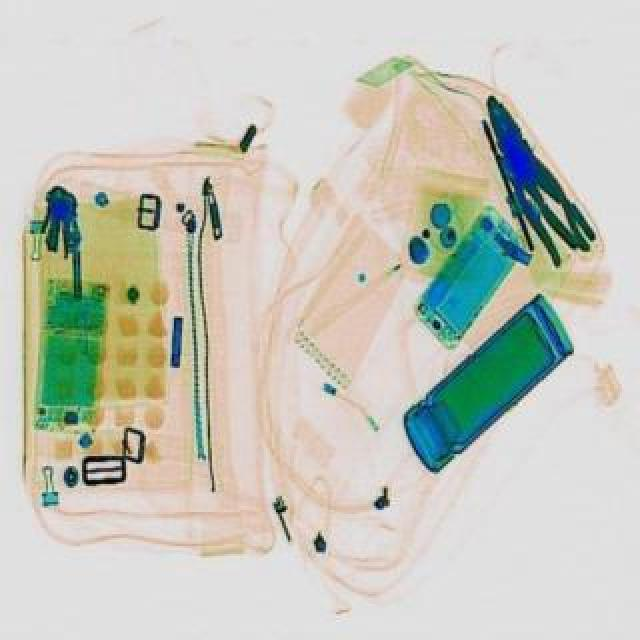wrench: (470, 92, 598, 272)
